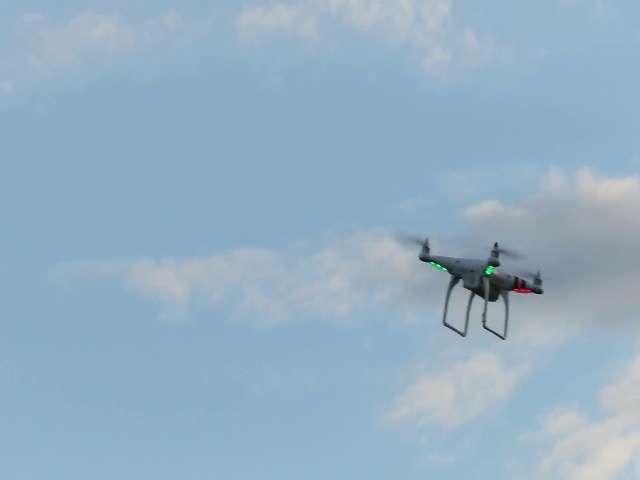drone: (402, 227, 551, 342)
